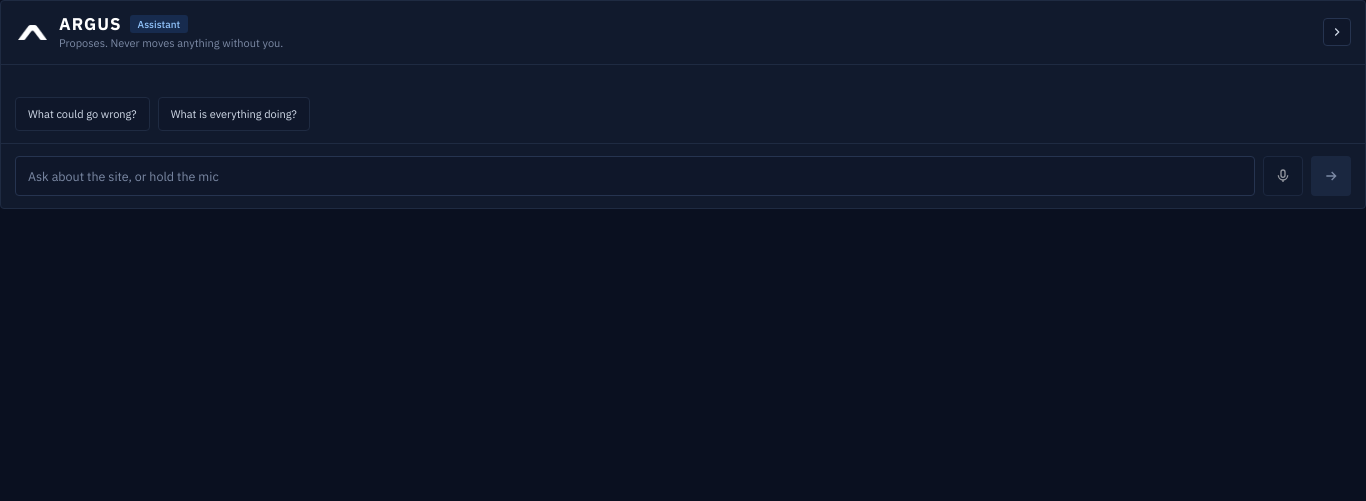
an order typed to the assistant › cannot be approved while a check has failed
Type "patrol the north fence with Tessy" into the field.
click(635, 176); type("patrol the north fence with Tessy")  # box left=15, top=156, right=1255, bottom=196
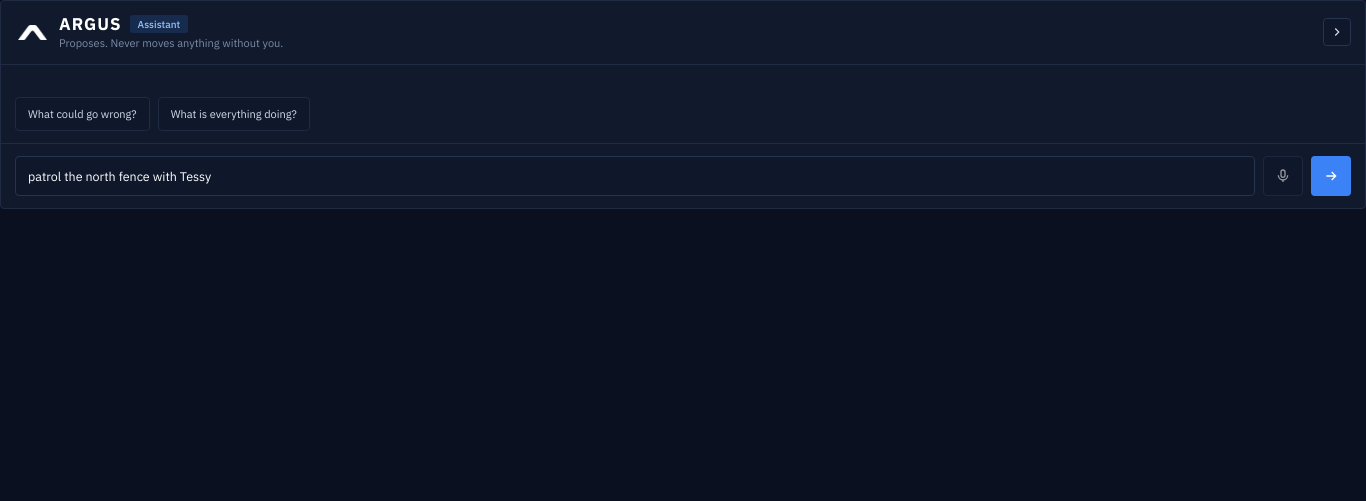
Submit the form, box left=1, top=143, right=1365, bottom=208
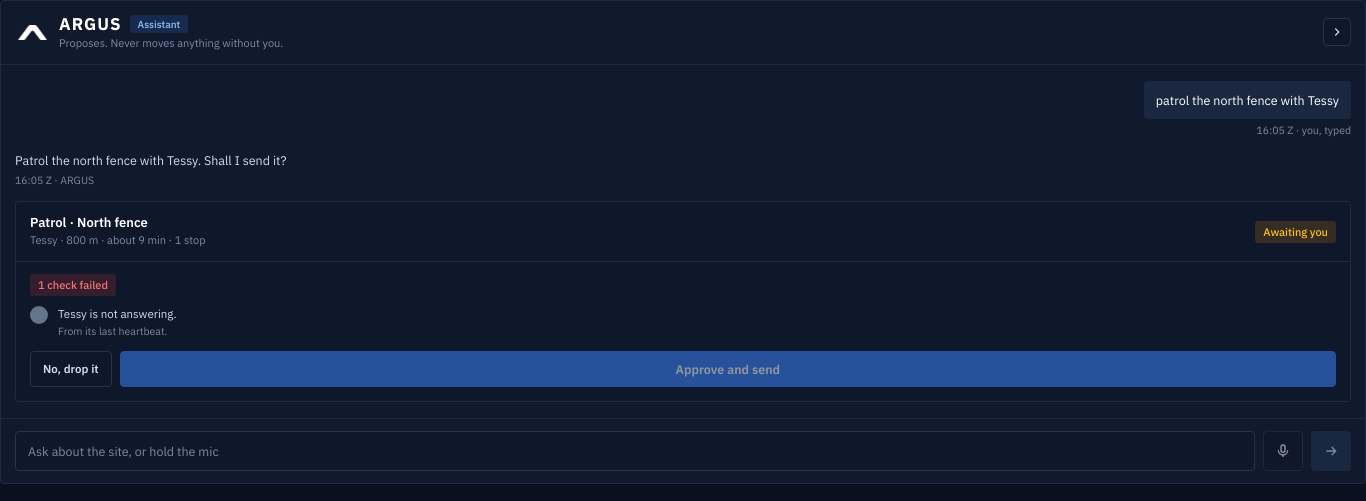
Expected: the button "Approve and send" is disabled, left=120, top=351, right=1336, bottom=387
